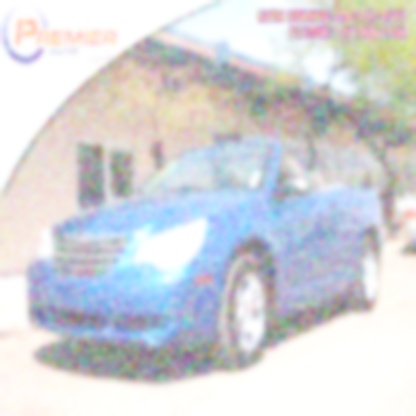Vehicle: (26, 139, 388, 371)
